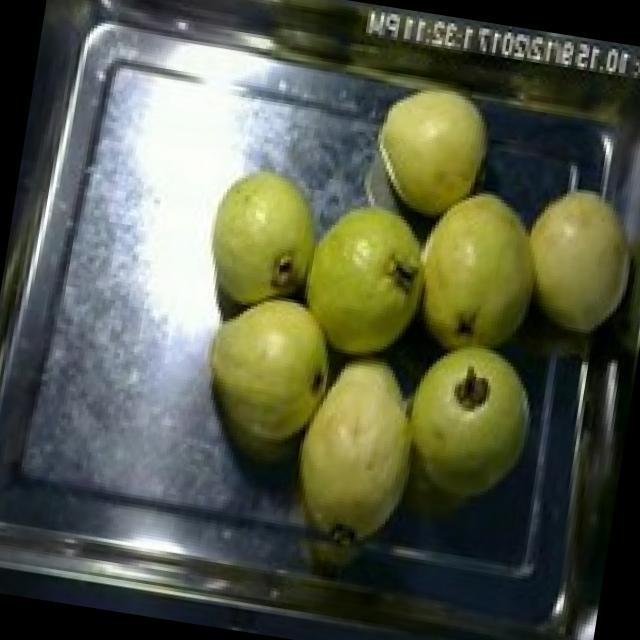Fruit: (273, 334, 444, 556), (180, 276, 356, 474), (275, 175, 437, 382), (390, 322, 553, 512), (408, 170, 554, 375), (190, 151, 340, 329), (353, 66, 506, 235), (503, 169, 640, 353)
